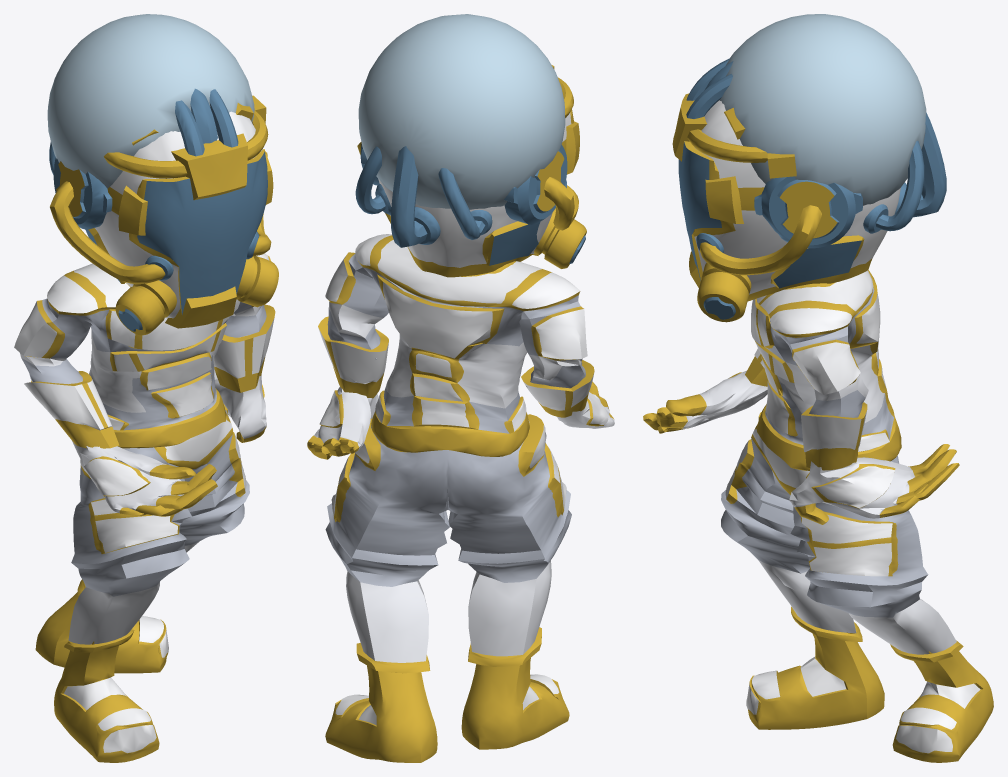
Rendered from av-astronauta-perdido.glb.
3 views of the same model, side by side, from view 1: azimuth 30°, elevation 25°; view 2: azimuth 150°, elevation 25°; view 3: azimuth 270°, elevation 25° (orthographic). The views are drawn at different scales.
Visible parts, largest first — view 1: Ad_capacete_domo_0_0; view 2: Ad_capacete_domo_0_0; view 3: Ad_capacete_domo_0_0.
Part boxes in pixels (bbox=[...]): Ad_capacete_domo_0_0: bbox=[14, 14, 278, 762]; Ad_capacete_domo_0_0: bbox=[307, 14, 614, 762]; Ad_capacete_domo_0_0: bbox=[643, 14, 993, 762].
Bounding box in the file's own units: 0.5676 × 1.47 × 0.6504.
1 material, 1 textured.
